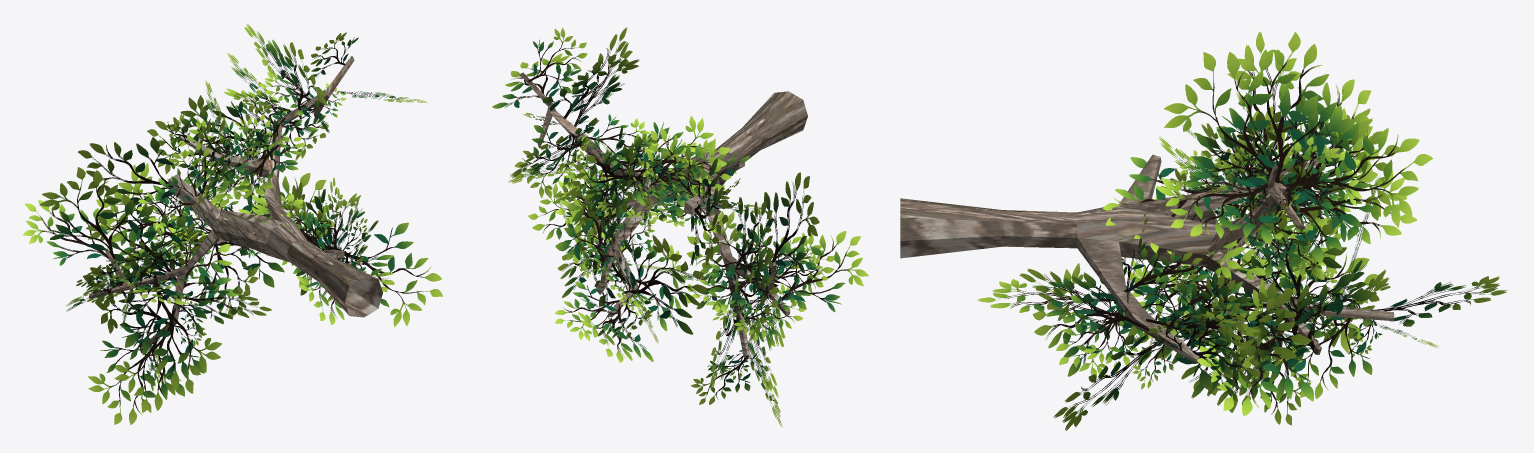
File: Birch2.fbx
3 views of the same model, side by side, from view 1: azimuth 30°, elevation 25°; view 2: azimuth 150°, elevation 25°; view 3: azimuth 270°, elevation 25° (orthographic). The views are drawn at different scales.
Visible parts, largest first — view 1: tree3_LOD0; view 2: tree3_LOD0; view 3: tree3_LOD0.
Boxes of the visible parts, left/top/right/bottom form: tree3_LOD0: left=23, top=24, right=442, bottom=424; tree3_LOD0: left=492, top=27, right=868, bottom=426; tree3_LOD0: left=900, top=32, right=1506, bottom=430.
Size of what is drawn, in the model's own units: 470 by 441 by 491.
Materials: 2 (2 with a texture image).
